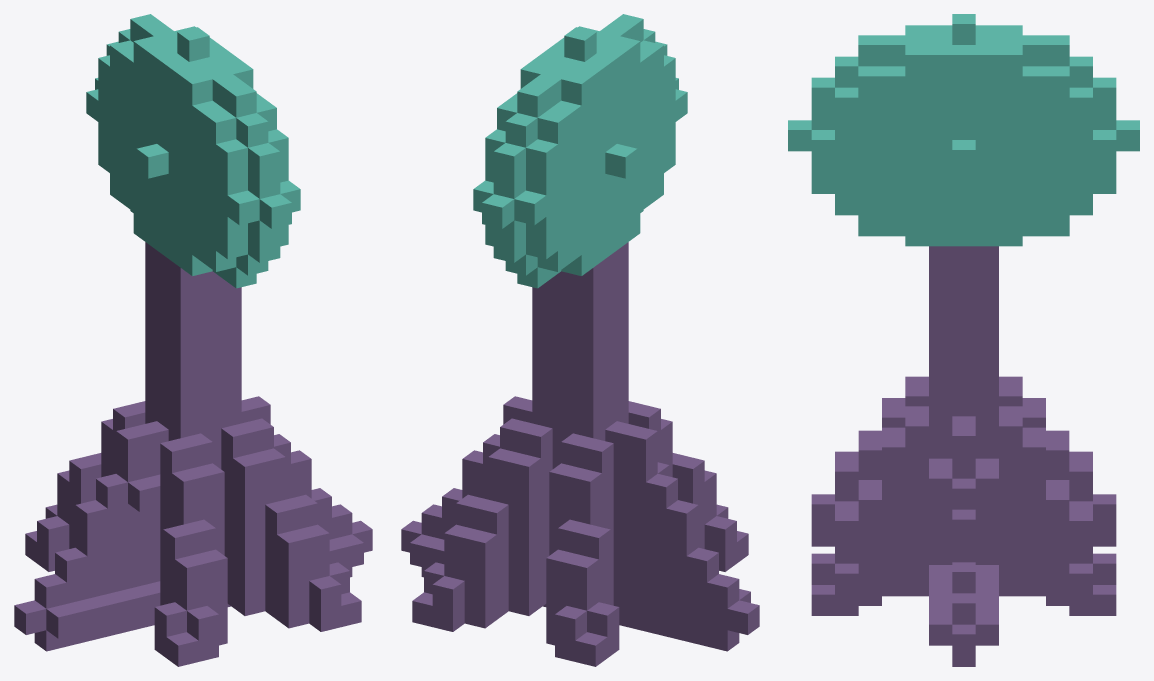
The model's file is alien-biosphere-buttress-fan-tree-19828727__22693.glb.
3 views of the same model, side by side, from view 1: azimuth 30°, elevation 25°; view 2: azimuth 150°, elevation 25°; view 3: azimuth 270°, elevation 25° (orthographic).
Visible parts, largest first — view 1: buttress-fan-tree; view 2: buttress-fan-tree; view 3: buttress-fan-tree.
Part boxes in pixels (box(x1,y1,x2,y2)): buttress-fan-tree: box(14, 14, 372, 666); buttress-fan-tree: box(401, 14, 759, 666); buttress-fan-tree: box(788, 14, 1139, 666).
Bounding box in the file's own units: 3.4 × 5.4 × 3.
